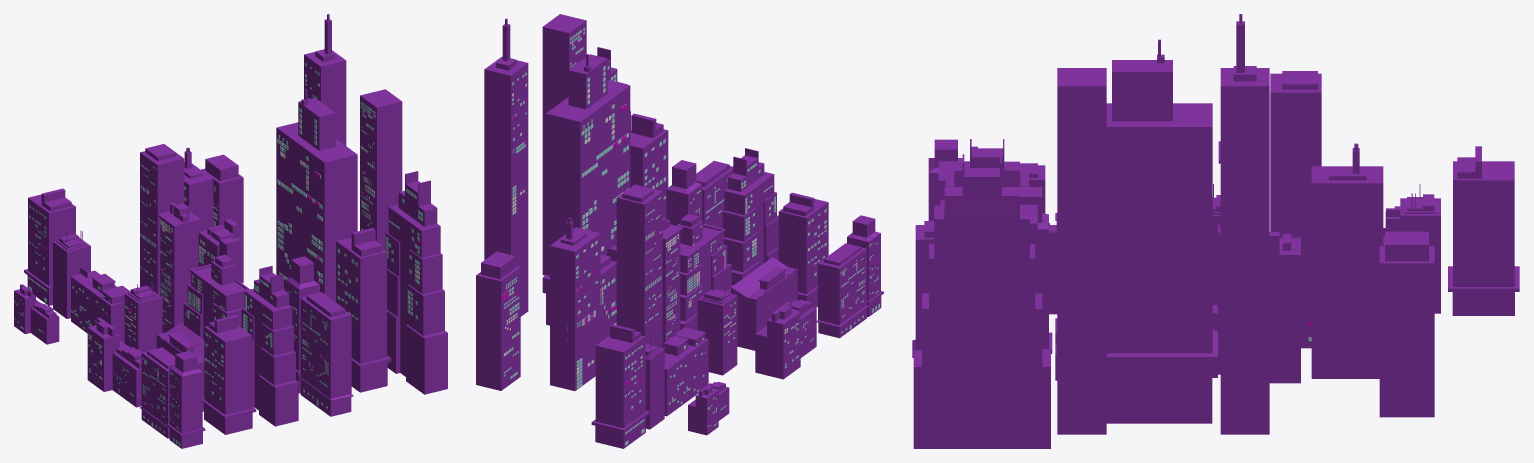
Rendered from Chunk_buildings.fbx.
The picture shows the model from 3 angles, left to right: view 1: azimuth 30°, elevation 25°; view 2: azimuth 150°, elevation 25°; view 3: azimuth 270°, elevation 25°; orthographic projection. The views are drawn at different scales.
Visible parts, largest first — view 1: buildings4:buildings, windows:windows; view 2: buildings4:buildings, windows:windows; view 3: buildings4:buildings.
Part boxes in pixels (x1,y1,x2,y2): buildings4:buildings: (14, 14, 447, 448); windows:windows: (14, 63, 422, 446); buildings4:buildings: (476, 14, 883, 448); windows:windows: (501, 27, 879, 445); buildings4:buildings: (912, 14, 1519, 448).
Size of the model in its own units: 9.5 by 10.03 by 12.87.
